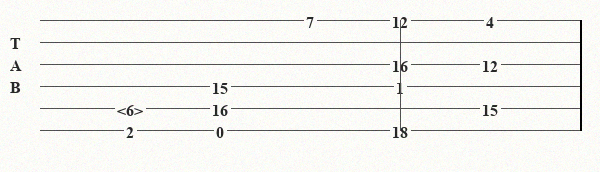0: (216, 123, 228, 138)
1: (396, 79, 408, 94)
12: (392, 13, 412, 28), (482, 57, 502, 72)
15: (212, 79, 232, 94), (482, 101, 502, 116)
16: (212, 101, 232, 116), (392, 57, 412, 72)
18: (392, 123, 412, 138)
2: (126, 123, 138, 138)
4: (486, 13, 498, 28)
7: (306, 13, 318, 28)
harmonic: (117, 101, 147, 116)
